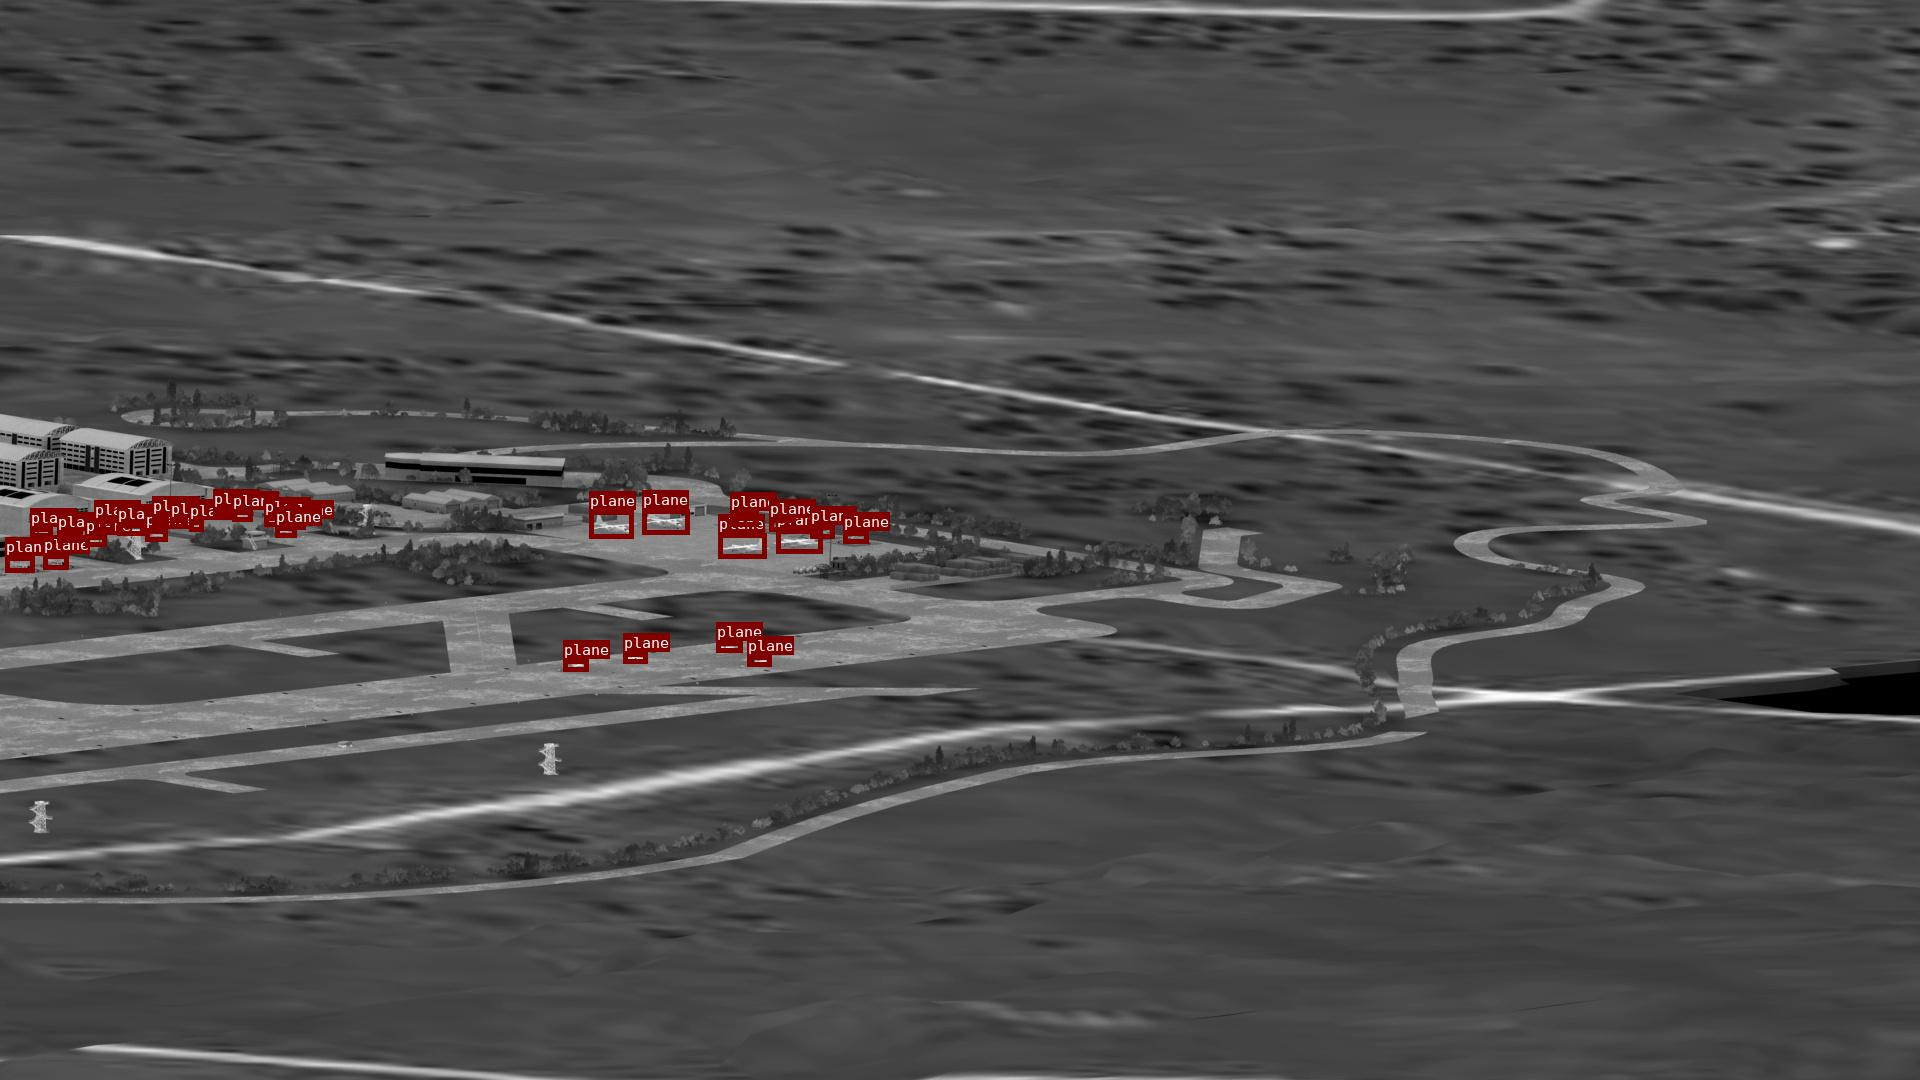plane: (717, 533, 766, 558), (589, 510, 633, 538), (642, 509, 688, 534), (775, 529, 822, 553), (5, 556, 34, 572), (731, 512, 758, 526), (44, 554, 69, 568), (769, 518, 795, 531), (117, 524, 144, 535), (810, 525, 833, 538), (563, 659, 588, 671), (622, 651, 647, 663), (843, 531, 868, 543), (716, 641, 742, 651), (145, 529, 167, 541), (57, 531, 82, 542), (746, 655, 771, 666), (94, 520, 113, 531), (84, 535, 105, 546), (232, 510, 252, 521), (264, 516, 284, 526), (276, 526, 295, 537), (30, 527, 51, 537), (189, 520, 203, 531), (214, 508, 232, 517), (170, 518, 187, 527), (287, 520, 305, 529), (152, 516, 167, 524)
